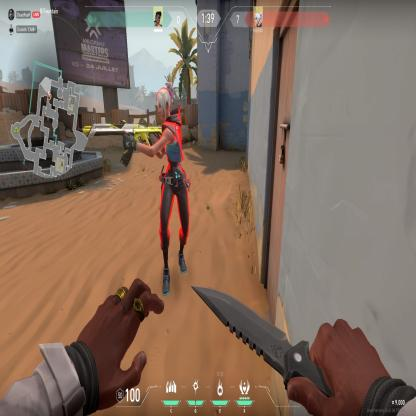enemy: (152, 87, 190, 301)
